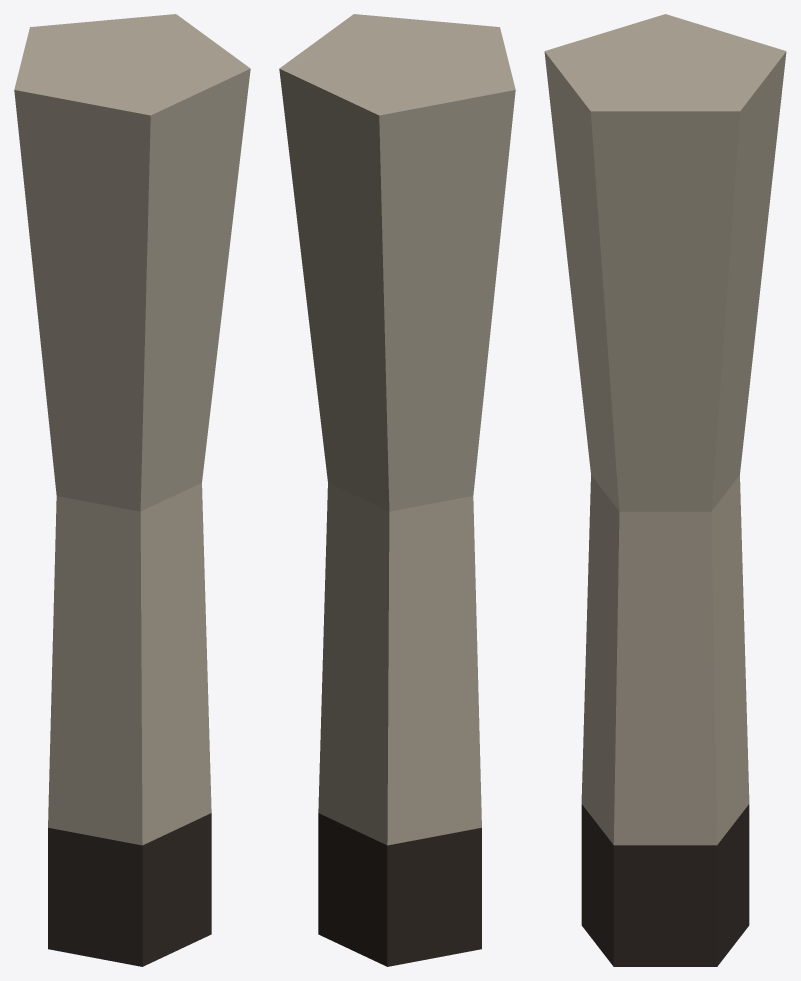
Rendered from animal_goat_leg.obj.
3 renders of one model, left to right at view 1: azimuth 30°, elevation 25°; view 2: azimuth 150°, elevation 25°; view 3: azimuth 270°, elevation 25°, orthographic.
Visible parts, largest first — view 1: animal_goat_leg; view 2: animal_goat_leg; view 3: animal_goat_leg.
Boxes of the visible parts, x1,y1,x2,y2 form: animal_goat_leg: (14, 14, 250, 966); animal_goat_leg: (279, 14, 515, 966); animal_goat_leg: (544, 14, 786, 966).
Bounding box in the file's own units: 0.0851 × 0.3542 × 0.0894.
